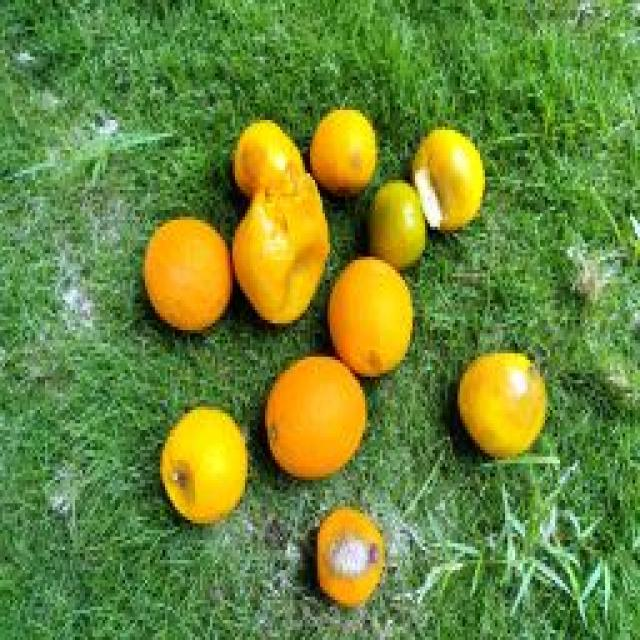Organik: (252, 350, 372, 478), (118, 203, 226, 343), (148, 384, 252, 519), (404, 116, 502, 247), (328, 249, 418, 385), (455, 347, 550, 471), (307, 500, 394, 604), (219, 103, 300, 198), (315, 106, 382, 198), (360, 169, 419, 261)
